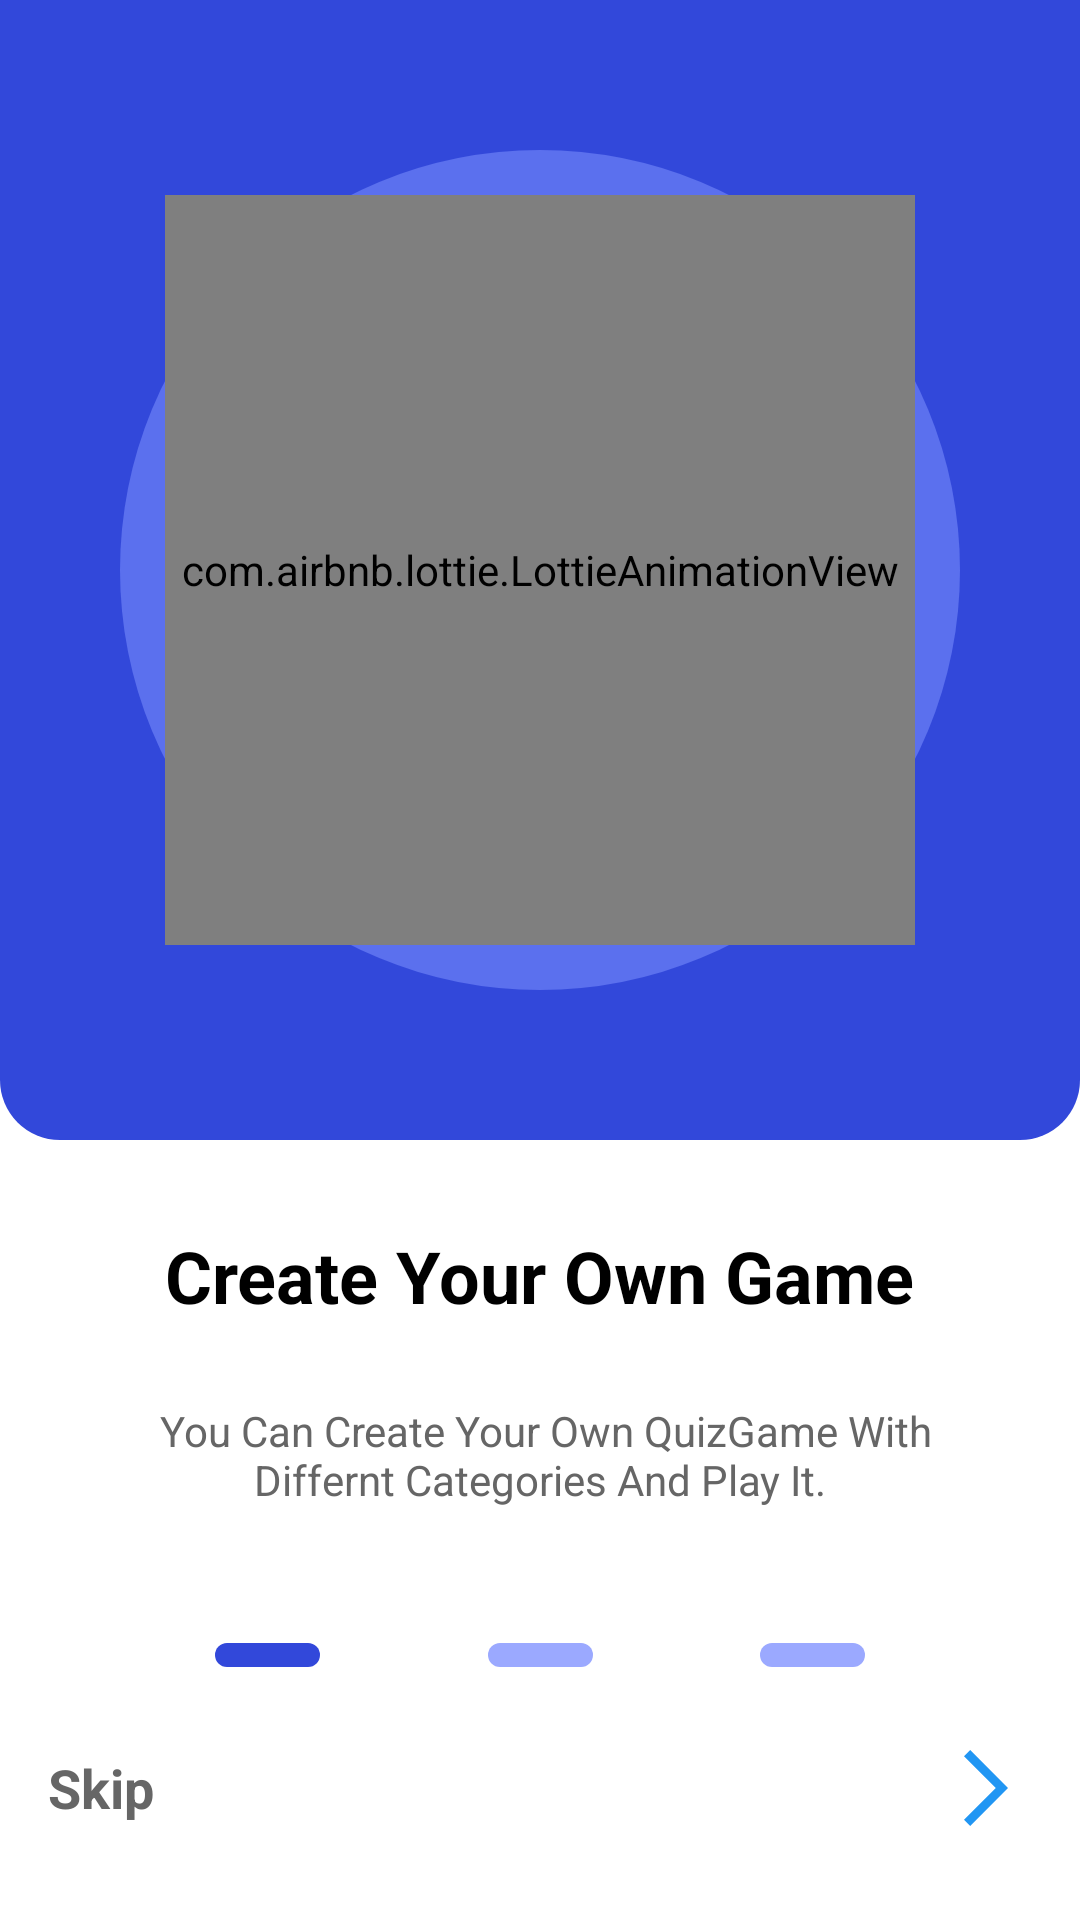

Screen size 1080w x 1920h. Icon name, then its box in pixels as (x1, y1, x2, y2):
right: (964, 1750, 1008, 1826)
